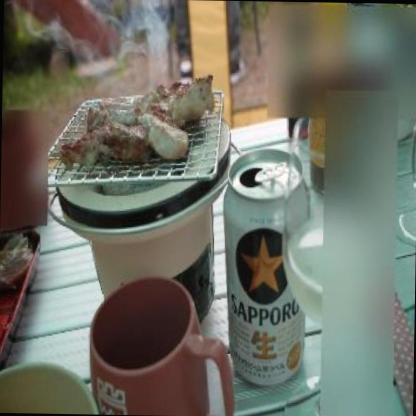alumunium_can: (218, 146, 310, 387)
